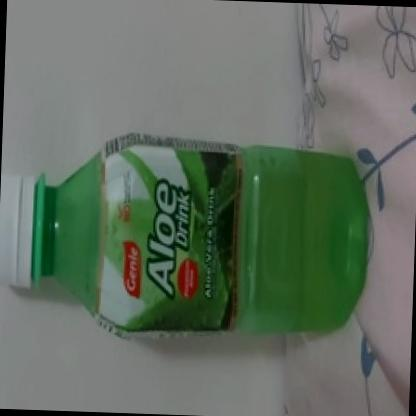plastic_bottles: (0, 129, 374, 346)
